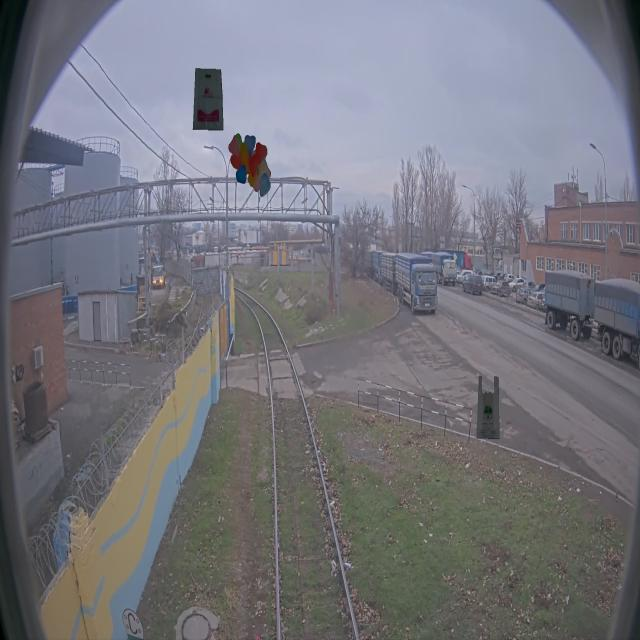balloon: (228, 132, 271, 196)
plastic bag: (193, 67, 223, 132), (476, 375, 499, 439)
